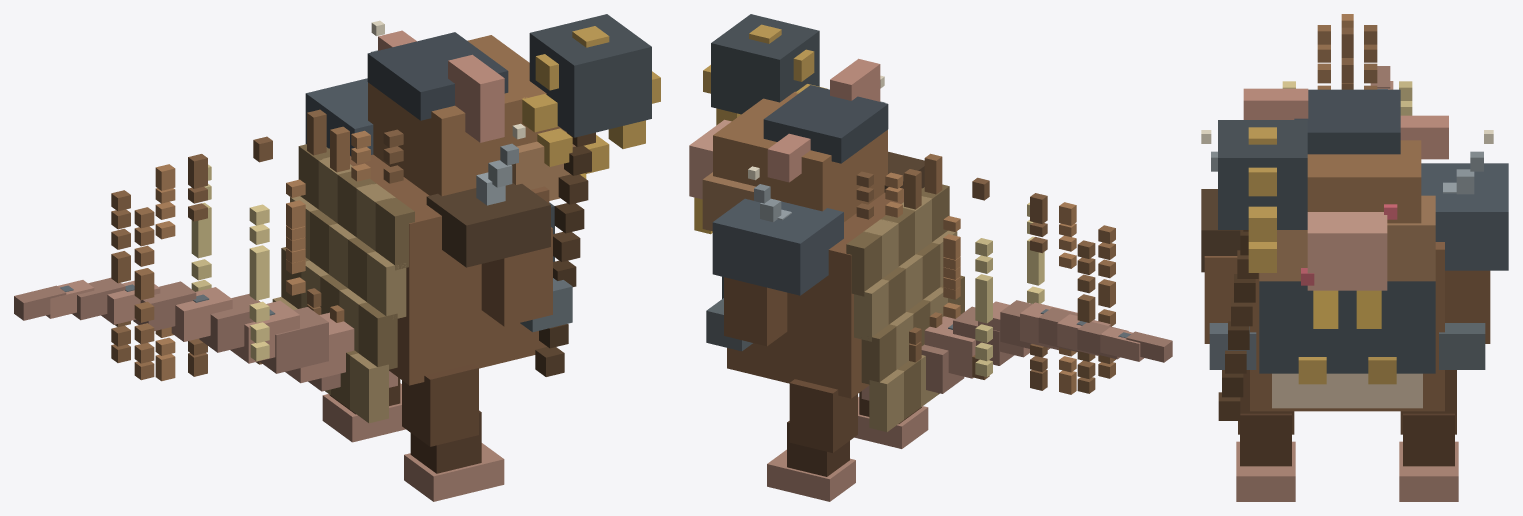
Rendered from mill-vole-alpha.glb.
3 views of the same model, side by side, from view 1: azimuth 30°, elevation 25°; view 2: azimuth 150°, elevation 25°; view 3: azimuth 270°, elevation 25° (orthographic). The views are drawn at different scales.
Parts seen in each view (by area): view 1: BurlapCape, Tail, Torso, HindLegs, Scales, Head, CogMace, Trim, ShoulderStrap, IronHelm, CogTeeth, ClubShaft (+6 smaller); view 2: BurlapCape, Torso, Tail, HindLegs, Pauldron, Scales, Head, CogMace, Trim, IronHelm, Arms, Ears (+6 smaller); view 3: ScrapArmor, HindLegs, CogMace, Pauldron, Head, Snout, IronHelm, Jowls, Belly, Arms, Torso, Ears (+11 smaller).
Part boxes in pixels (x1,y1,x2,y2): BurlapCape: (272,144,414,423); Tail: (14,277,397,391); Torso: (329,148,549,385); HindLegs: (322,363,504,501); Scales: (111,109,349,380); Head: (368,35,565,196); CogMace: (529,14,651,137); Trim: (155,129,403,381); ShoulderStrap: (426,183,550,267); IronHelm: (367,32,508,120); CogTeeth: (522,26,660,173); ClubShaft: (535,132,595,376); BurlapCape: (846,184,964,431); Torso: (727,188,922,398); Tail: (861,300,1172,400); HindLegs: (767,379,928,501); Pauldron: (712,198,843,295); Scales: (904,153,1115,393); Head: (713,91,887,221); CogMace: (711,14,819,114); Trim: (856,171,1076,394); IronHelm: (763,85,888,163); Arms: (724,277,787,346); Ears: (767,58,880,182); ScrapArmor: (1259,281,1435,373); HindLegs: (1236,370,1458,501); CogMace: (1218,120,1307,229); Pauldron: (1421,163,1508,270); Head: (1307,140,1421,223); Snout: (1307,212,1387,290); IronHelm: (1294,89,1400,154); Jowls: (1259,195,1435,281); Belly: (1272,373,1422,408); Arms: (1204,256,1490,343); Torso: (1250,242,1444,411); Ears: (1243,88,1448,159).
Bounding box in the file's own units: 8.03 × 5.55 × 3.7.
